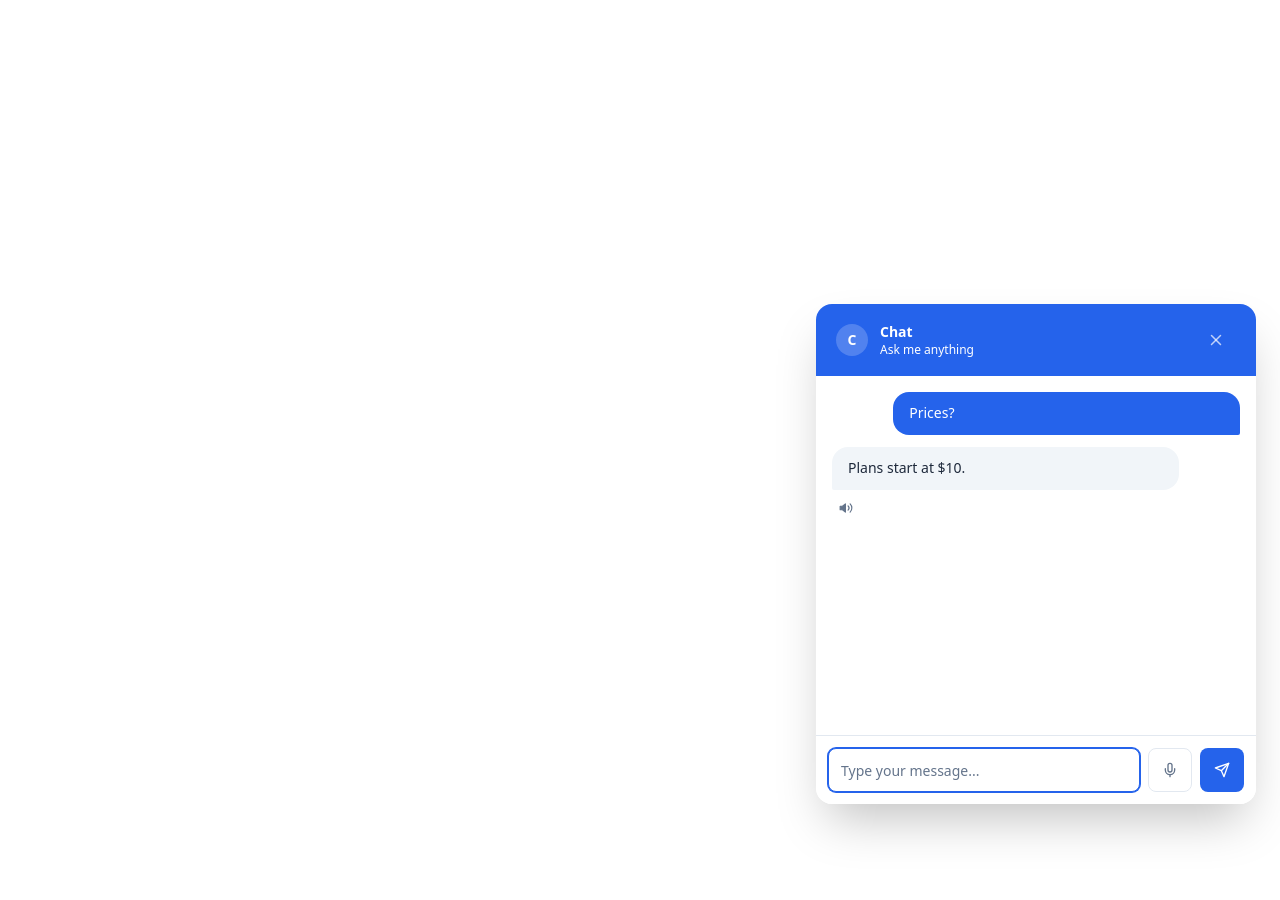
Test case: ChatWindow read-aloud › playback › pauses and resumes
Click the button named "Read aloud" at (846,508), box [832,494,860,522]
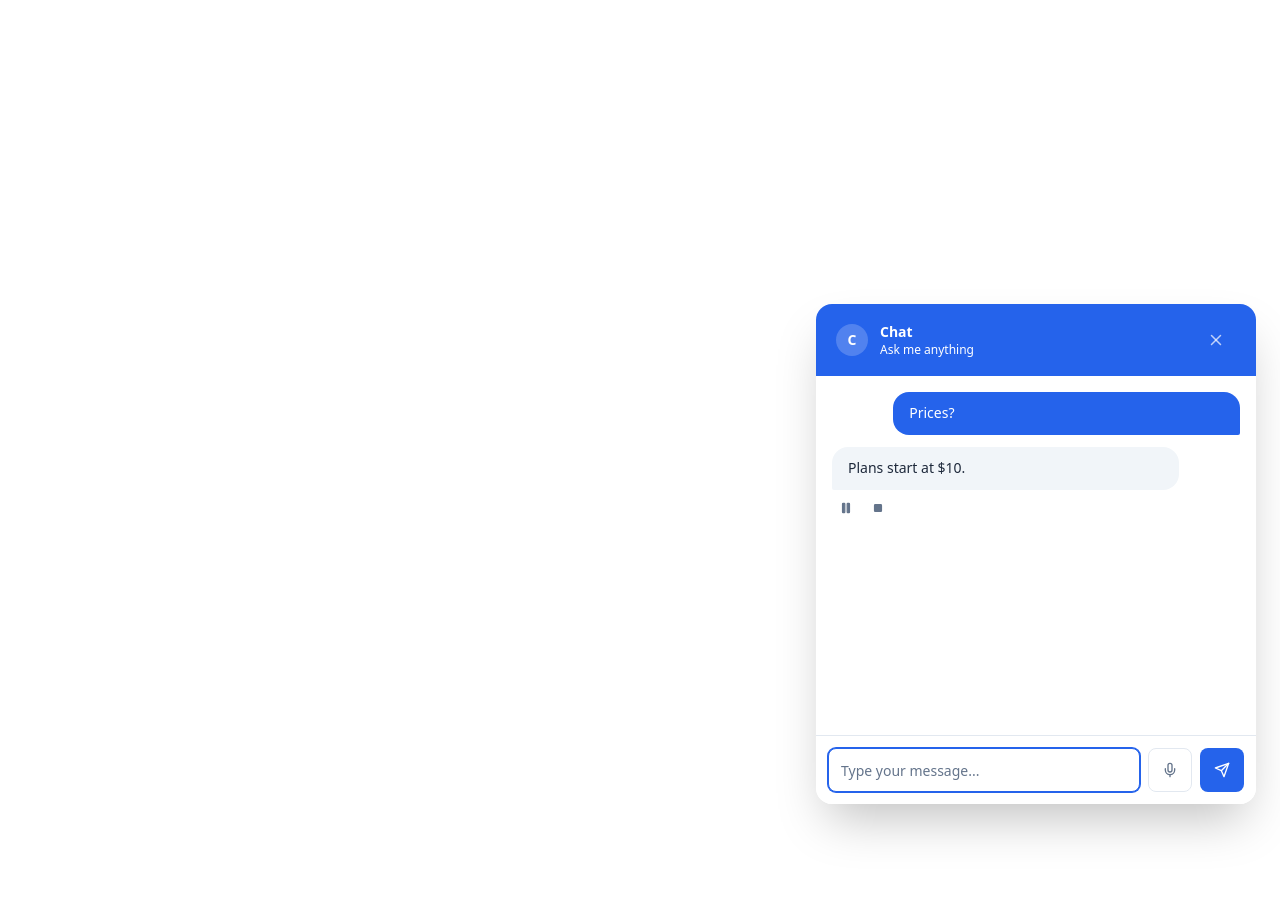
Click the button named "Pause reading" at (846,508), box [832,494,860,522]
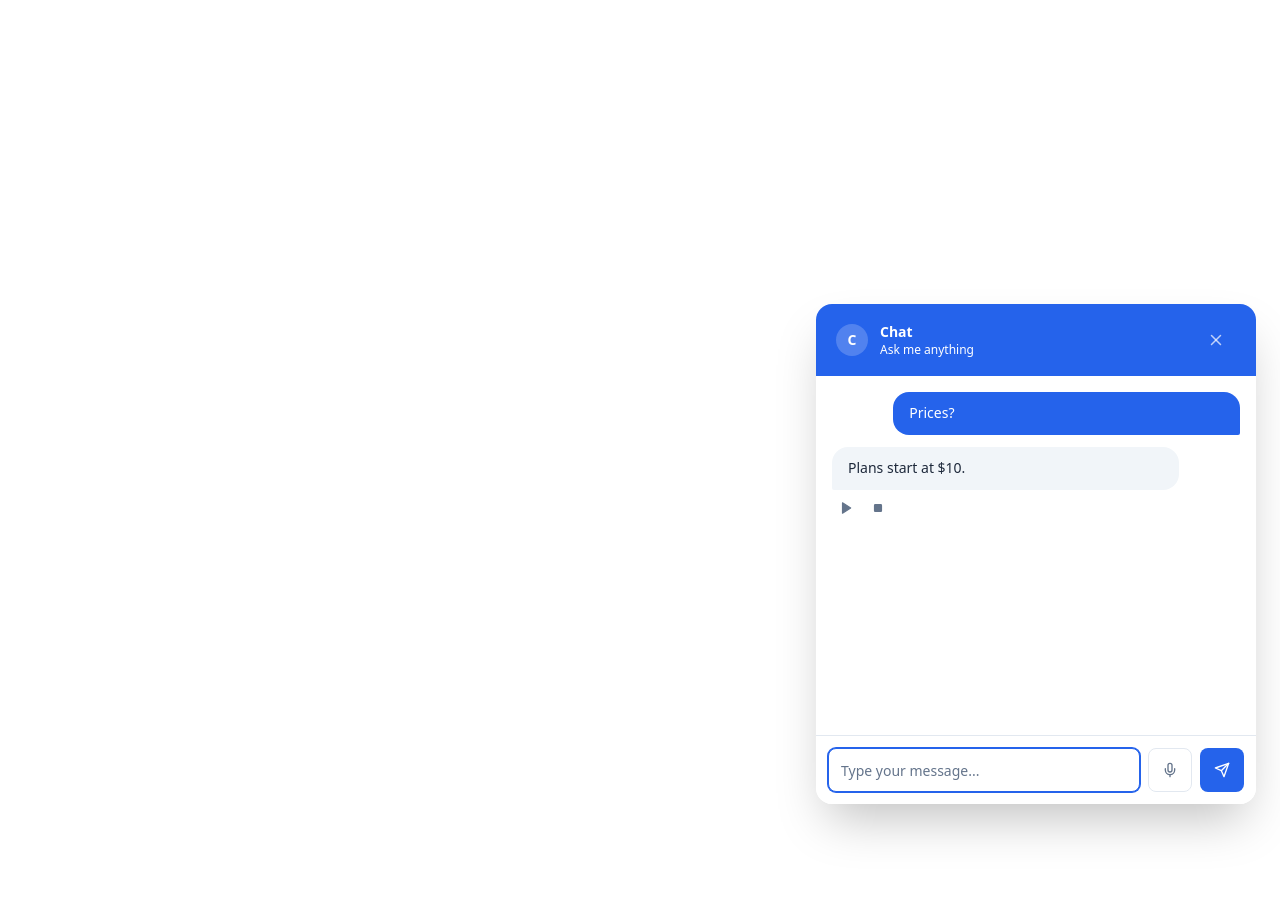
Click the button named "Resume reading" at (846,508), box [832,494,860,522]
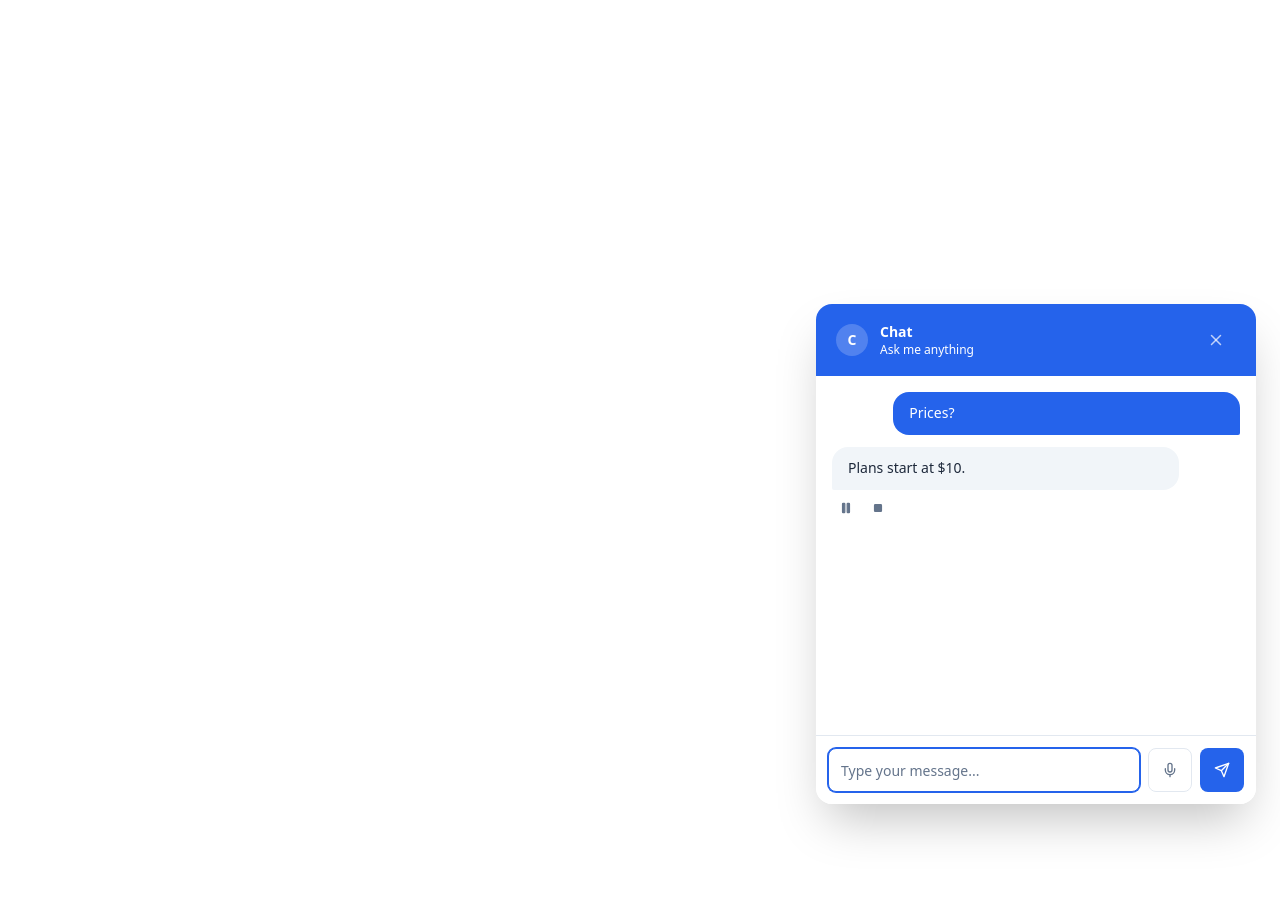
Expected: the button named "Pause reading" is shown, [832,494,860,522]
